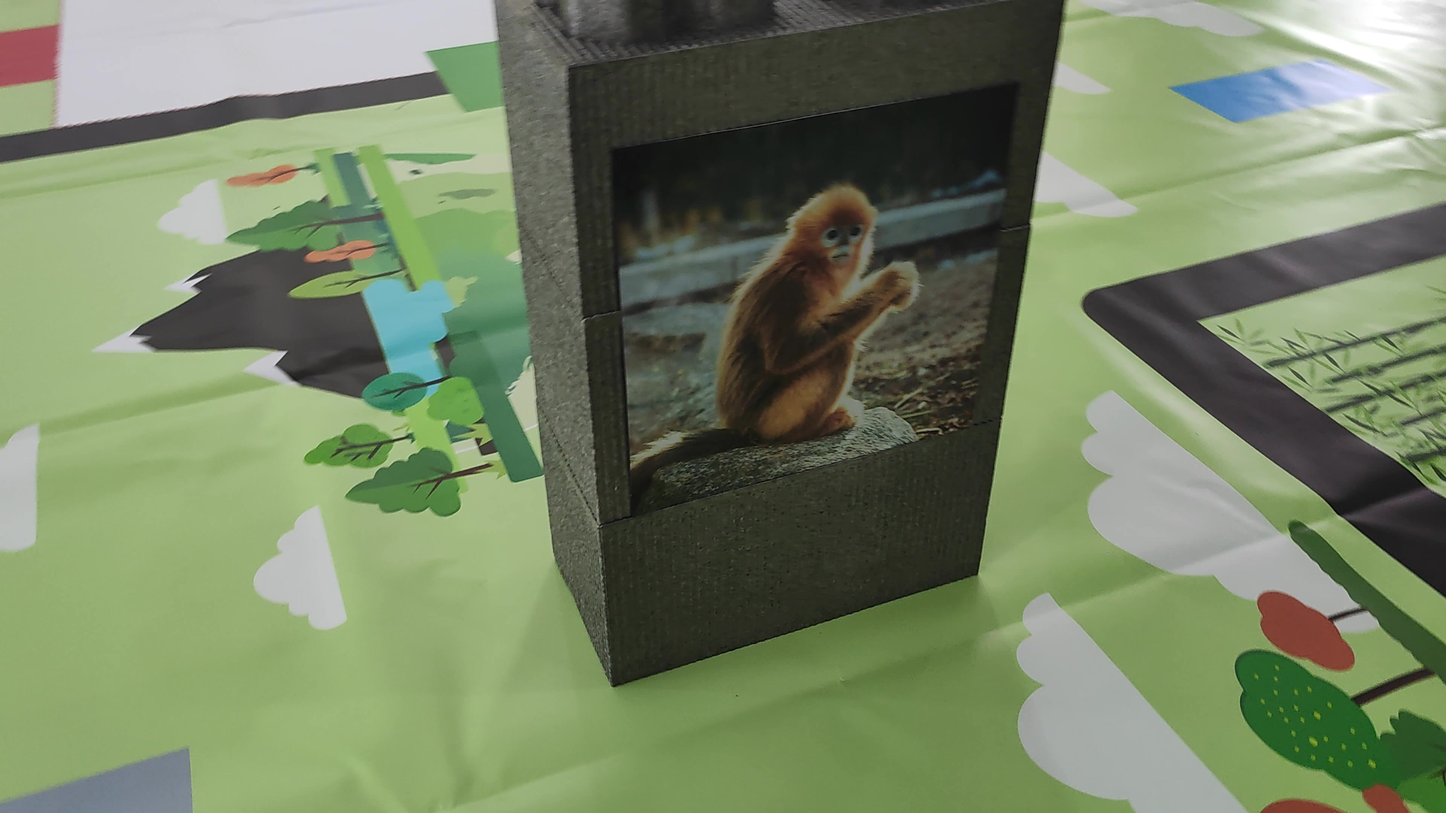monkey: (702, 161, 948, 486)
